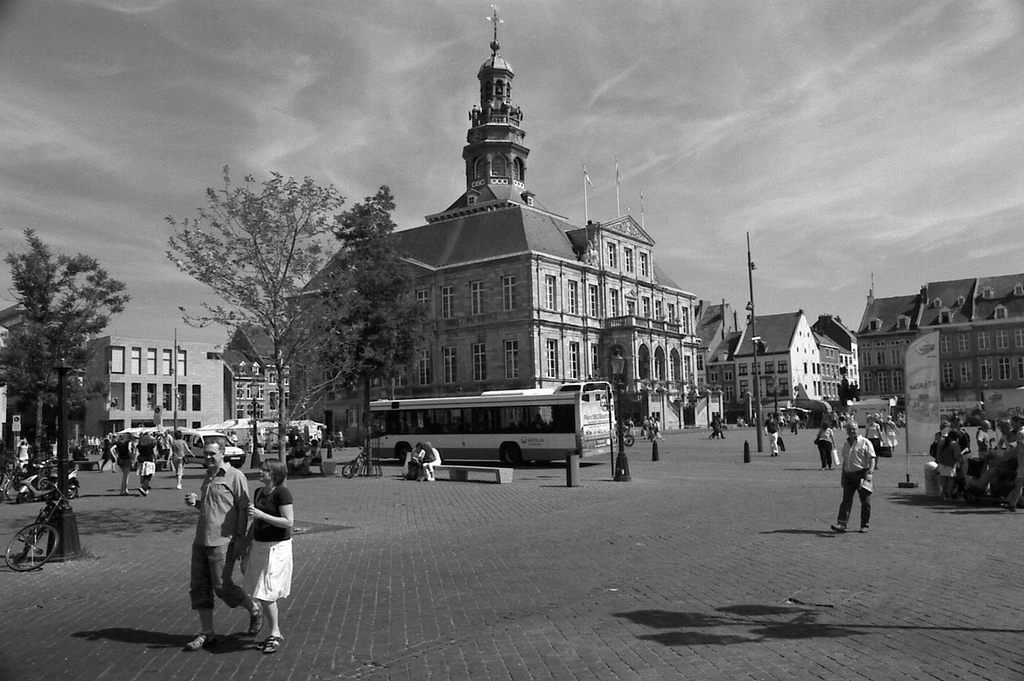Car: (170, 420, 241, 466), (267, 429, 291, 449)
